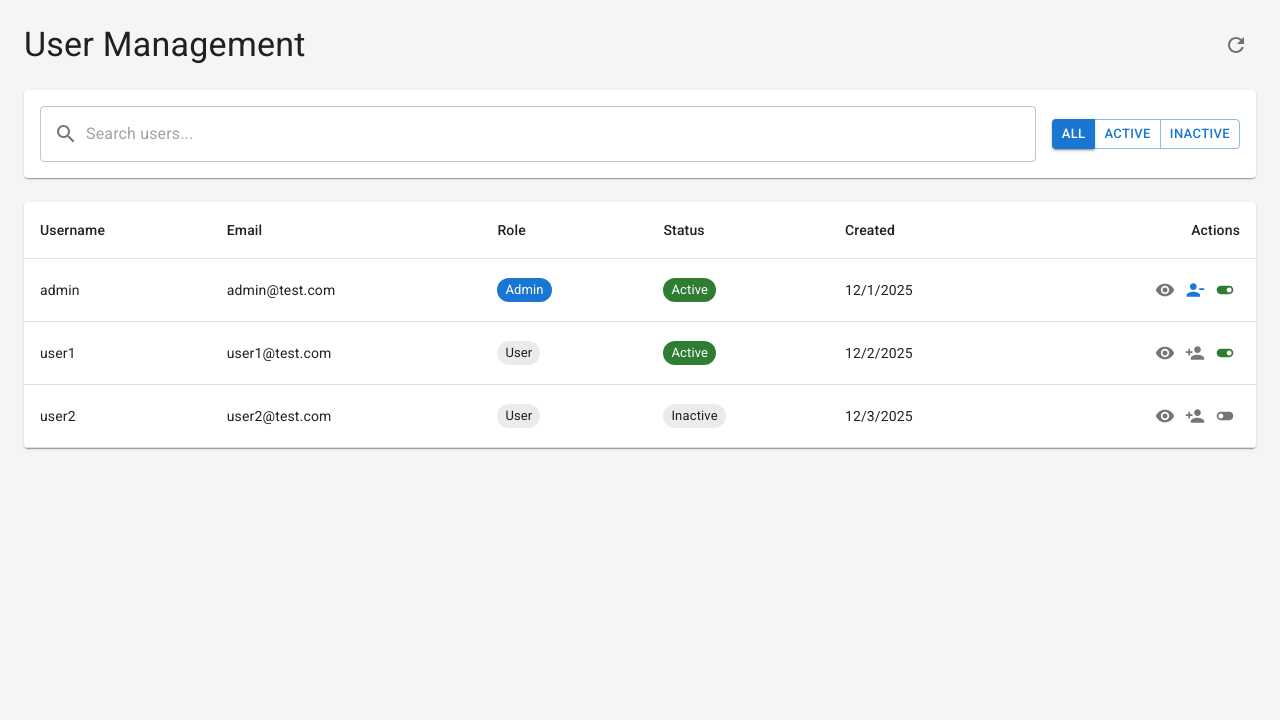
Test: UsersManagement Page - TDD (Rebuilt with Admin V1 API) › 6. User Devices Viewing › should open devices dialog when view devices clicked
The image size is (1280, 720).
Check: the text "user1" is shown, box [24,322,211,384]
Note: Find and click view devices button
Click the button named "view devices" in the row of "user1@test.com".
click(1165, 353)  # box [1150,338,1180,368]
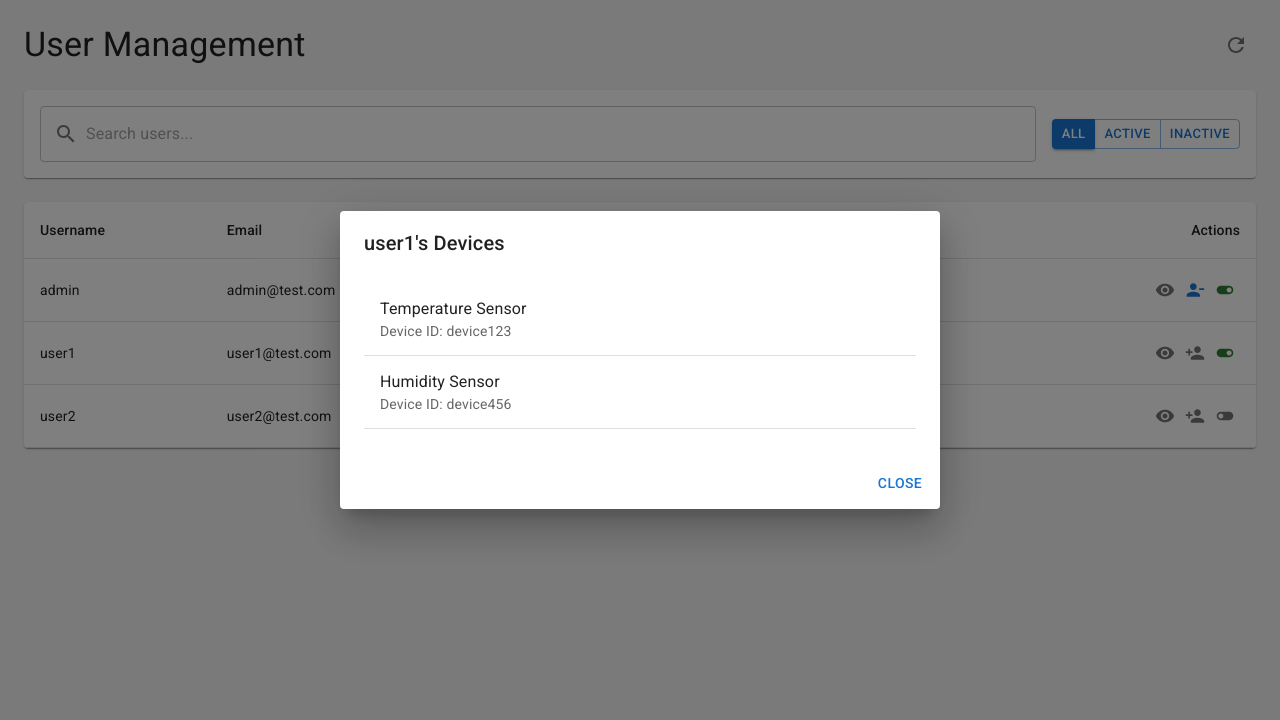
Check: the heading "user1's Devices" is shown, box [364,231,505,255]
